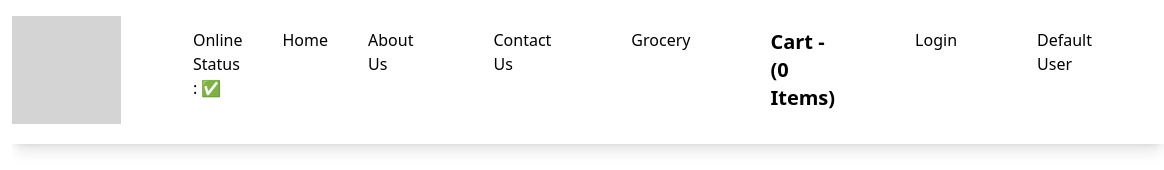
Test: test cases foe header › Should change login button to logout button
Click the button "Login": [936, 40] box top-left (915, 28), bottom-right (957, 52)
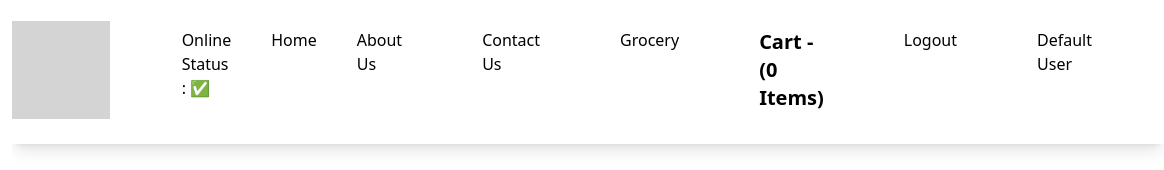
Check: the button "Logout" is shown, box top-left (904, 28), bottom-right (957, 52)
